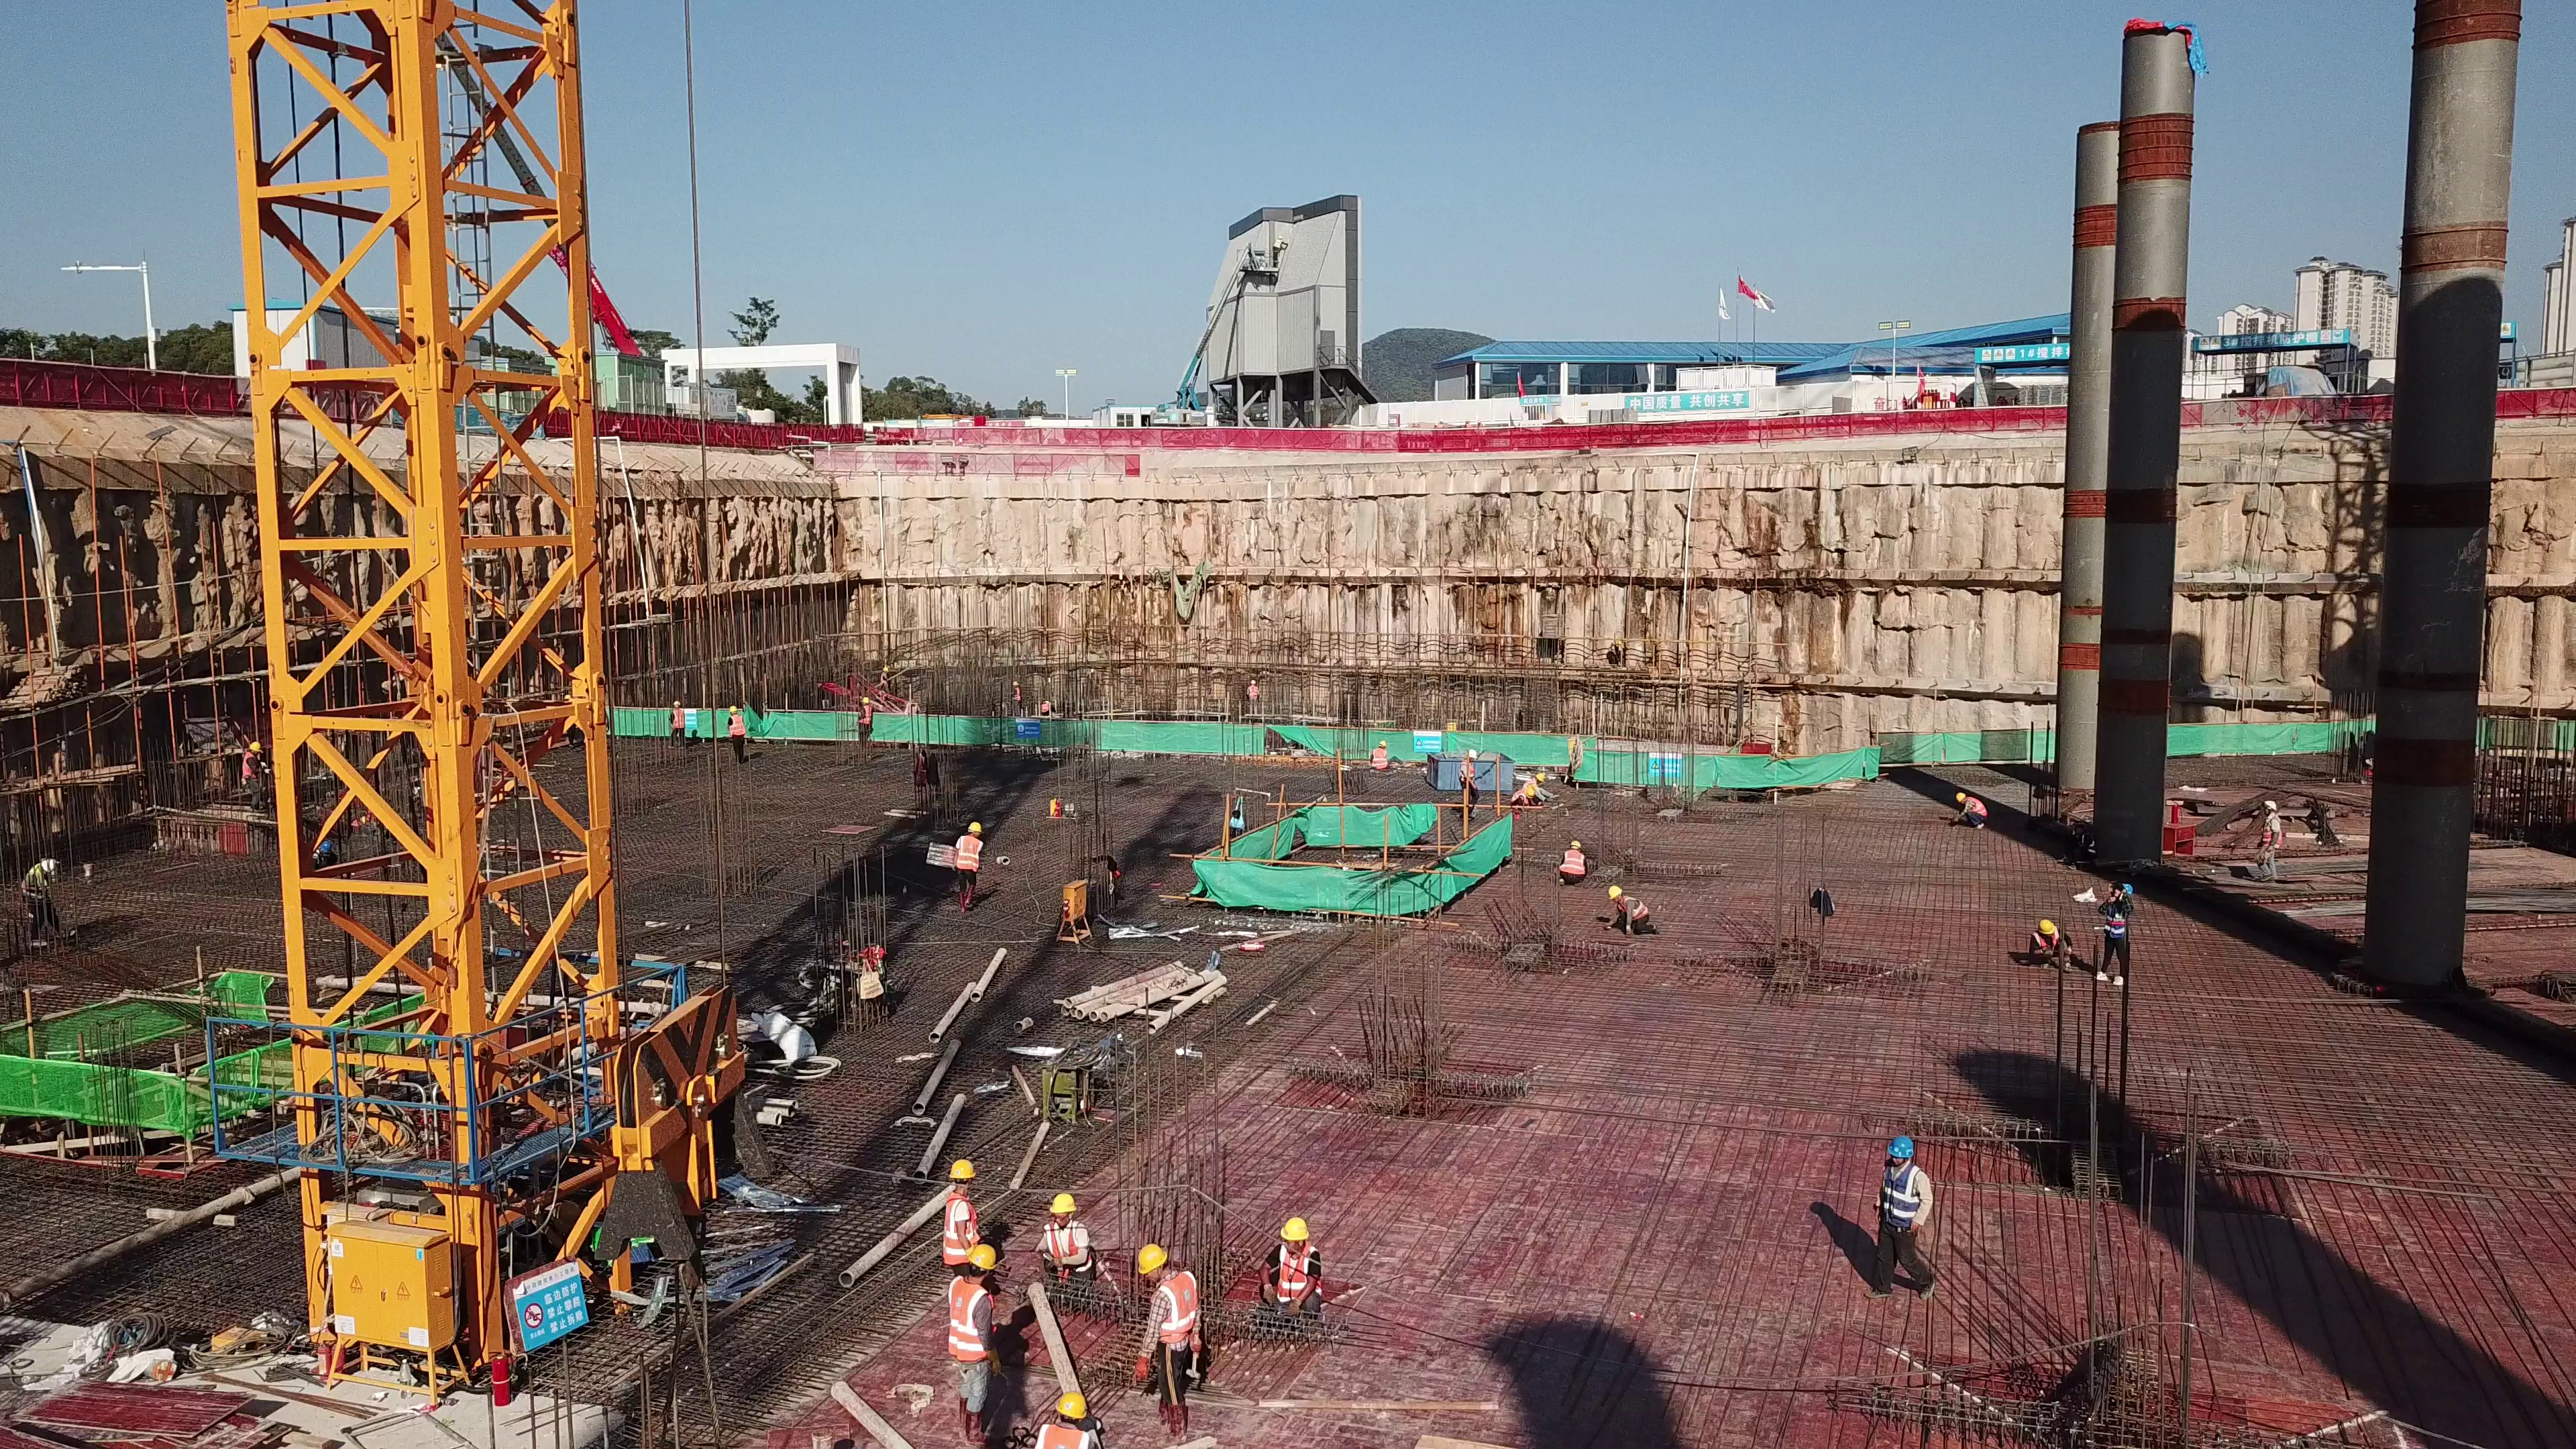helmet: (1131, 1242, 1174, 1273), (1278, 1214, 1315, 1238), (966, 1246, 997, 1273), (1883, 1134, 1916, 1157), (1049, 1194, 1079, 1213), (947, 1161, 975, 1179), (2036, 914, 2053, 932), (965, 818, 984, 835), (41, 855, 57, 871), (1606, 886, 1625, 898), (249, 740, 264, 754), (1954, 792, 1967, 806), (1464, 747, 1477, 759), (2121, 882, 2136, 896), (2265, 799, 2275, 815), (1535, 771, 1547, 784), (1567, 838, 1581, 847), (1378, 738, 1389, 749), (320, 842, 331, 853), (1525, 789, 1534, 798), (727, 704, 739, 712), (861, 694, 869, 702), (671, 700, 681, 706)
person: (1127, 1238, 1220, 1435), (1861, 1130, 1943, 1307), (953, 1238, 1008, 1443), (1264, 1210, 1335, 1320), (1032, 1195, 1102, 1285), (2096, 872, 2143, 994), (25, 848, 74, 957), (2245, 793, 2289, 896), (947, 813, 989, 912), (1593, 882, 1660, 943), (1032, 1390, 1104, 1448), (936, 1159, 981, 1238), (2024, 919, 2082, 979), (1553, 836, 1595, 891), (238, 739, 266, 811), (1949, 789, 1993, 833), (305, 837, 347, 886), (1458, 749, 1482, 818), (659, 694, 692, 746), (727, 698, 750, 766), (851, 693, 875, 755), (1507, 788, 1539, 818), (1367, 742, 1395, 774), (1243, 676, 1263, 716), (1524, 770, 1554, 788), (1009, 680, 1023, 713), (877, 666, 892, 697), (1038, 700, 1052, 716)
vest: (1152, 1280, 1203, 1346), (1878, 1167, 1924, 1236), (949, 1279, 987, 1357), (1043, 1227, 1093, 1269), (1277, 1250, 1316, 1299), (943, 1197, 969, 1269), (1041, 1419, 1092, 1449), (21, 867, 48, 903), (959, 835, 981, 875), (1619, 898, 1651, 921), (2104, 896, 2127, 931), (2033, 934, 2065, 957), (2263, 812, 2284, 845), (1964, 797, 1989, 824), (1560, 852, 1585, 875), (240, 757, 260, 782), (1459, 761, 1476, 788), (1372, 749, 1389, 771), (731, 714, 747, 739), (670, 711, 688, 731), (860, 707, 873, 725), (1514, 790, 1524, 804)
